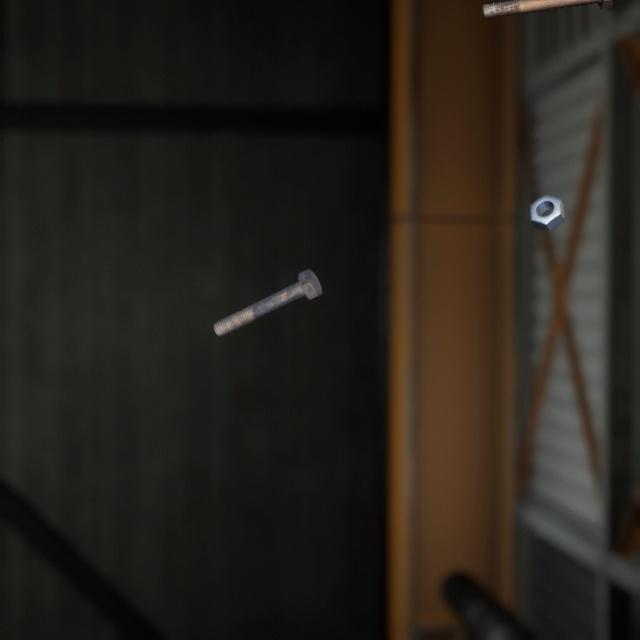bolt: (208, 246, 326, 323)
nut: (525, 175, 568, 220)
